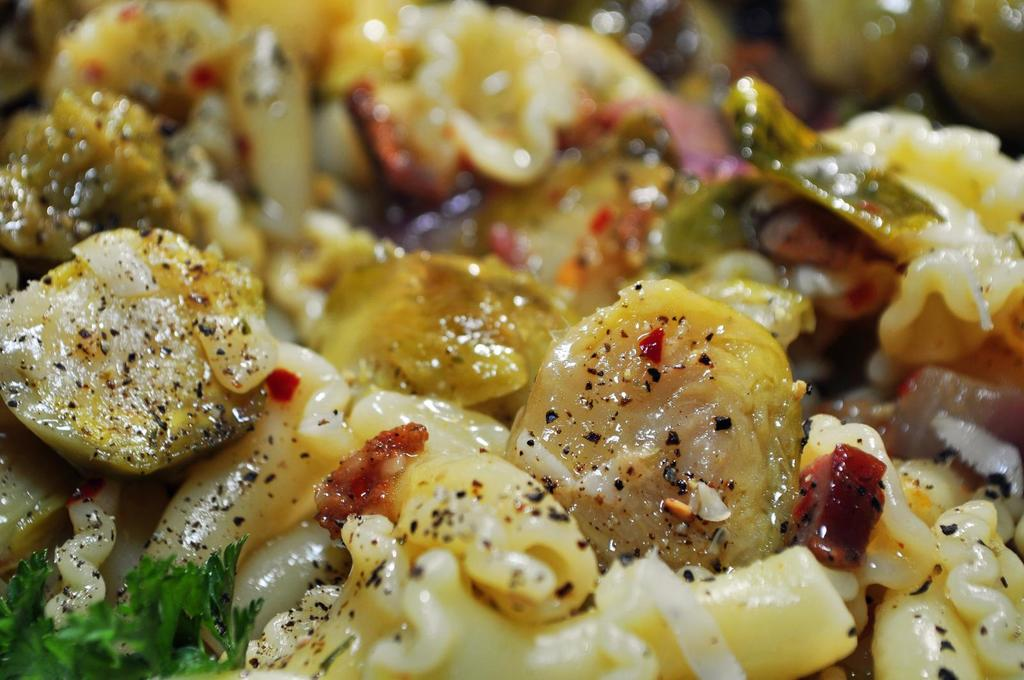pasta: (0, 0, 1012, 680)
